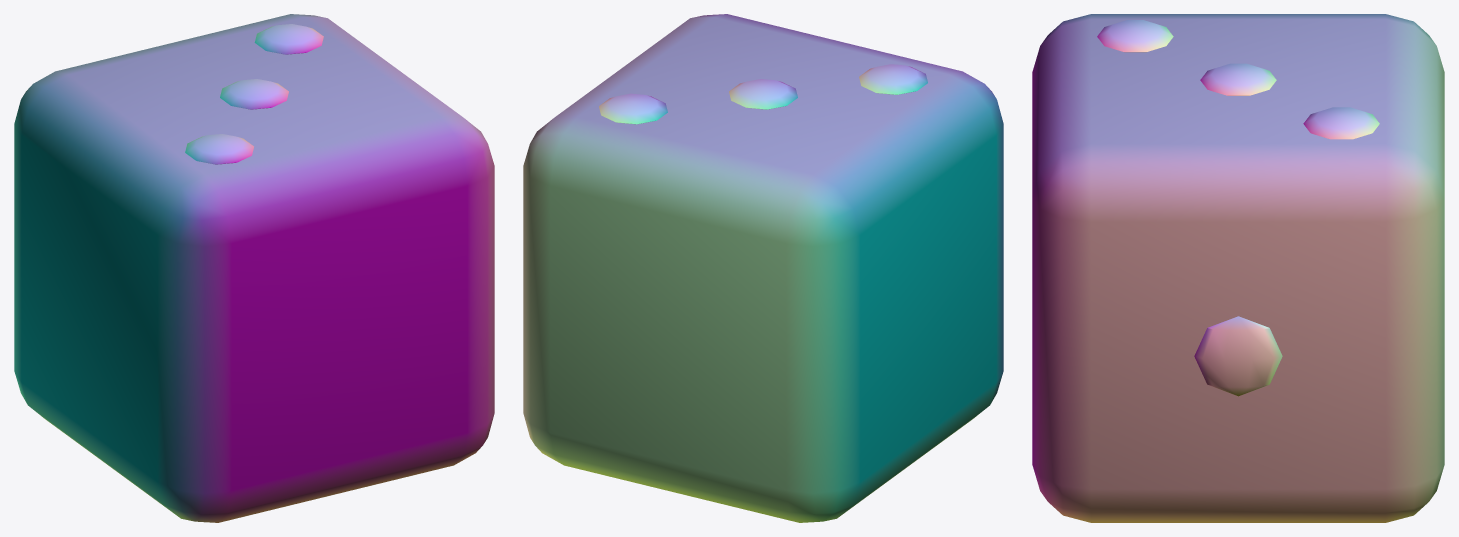
The model's file is env_deco_dice.glb.
3 renders of one model, left to right at view 1: azimuth 30°, elevation 25°; view 2: azimuth 150°, elevation 25°; view 3: azimuth 270°, elevation 25°, orthographic. The views are drawn at different scales.
Visible parts, largest first — view 1: env_deco_dice_mesh; view 2: env_deco_dice_mesh; view 3: env_deco_dice_mesh.
Part boxes in pixels (left/top/right/bottom): env_deco_dice_mesh: left=14, top=14, right=494, bottom=522; env_deco_dice_mesh: left=523, top=14, right=1003, bottom=522; env_deco_dice_mesh: left=1032, top=14, right=1444, bottom=522.
Bounding box in the file's own units: 0.2867 × 0.287 × 0.28.
